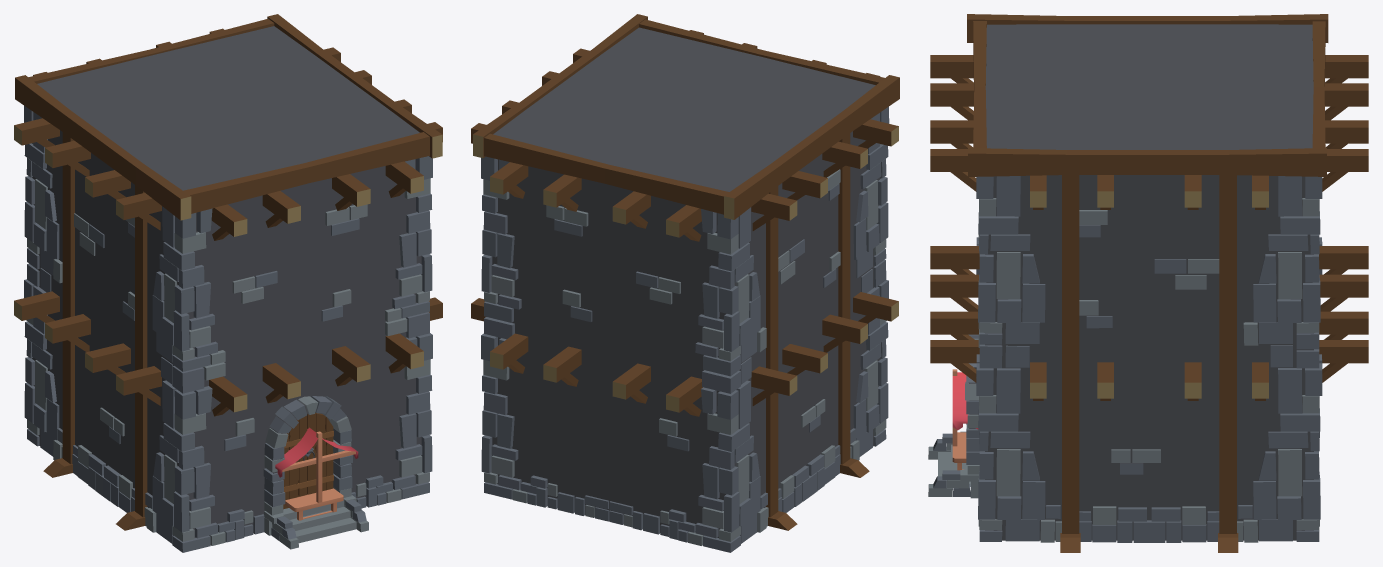
The model's file is london_house_2.glb.
3 renders of one model, left to right at view 1: azimuth 30°, elevation 25°; view 2: azimuth 150°, elevation 25°; view 3: azimuth 270°, elevation 25°, orthographic. The views are drawn at different scales.
Parts seen in each view (by area): view 1: House_3, stall-red; view 2: House_3; view 3: House_3, stall-red.
Part boxes in pixels (box(x1,y1,x2,y2)): House_3: box(14, 14, 442, 552); stall-red: box(275, 427, 358, 520); House_3: box(471, 14, 899, 552); House_3: box(928, 14, 1368, 552); stall-red: box(952, 369, 978, 470).
Bounding box in the file's own units: 9.68 × 10.45 × 10.62.
Materials: 8 (2 with a texture image).
